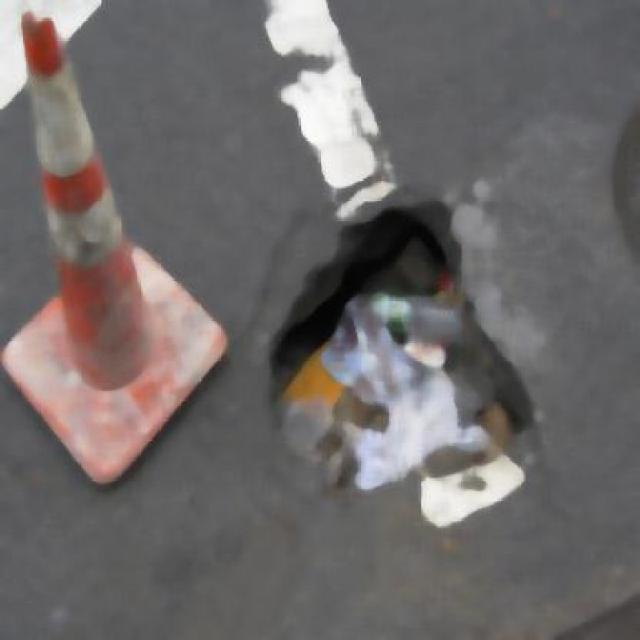Pothole: (272, 201, 534, 527)
